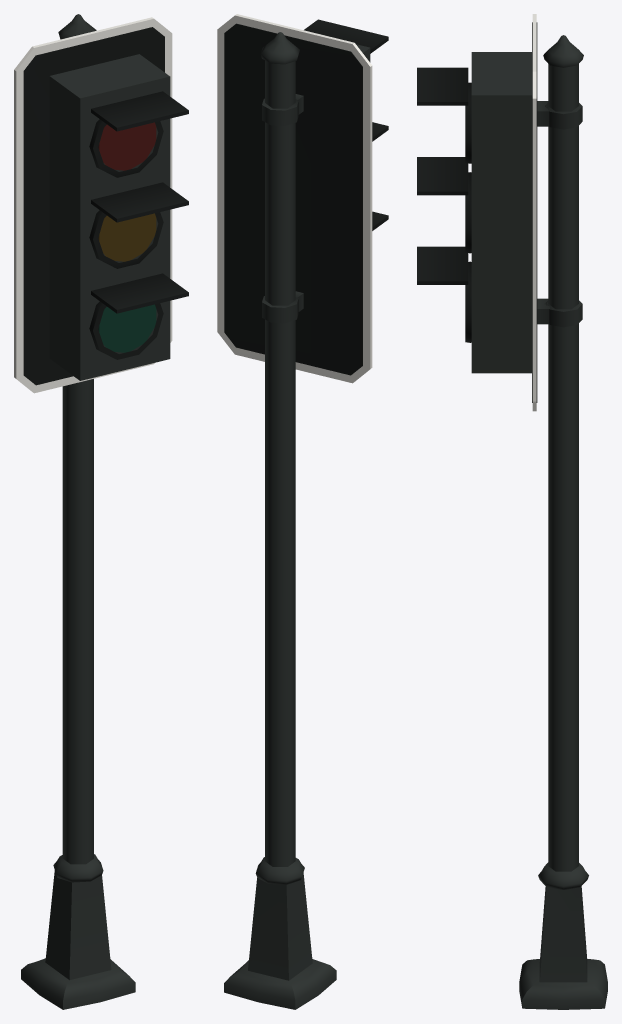
File: trafficLight.far.glb
The picture shows the model from 3 angles, left to right: view 1: azimuth 30°, elevation 25°; view 2: azimuth 150°, elevation 25°; view 3: azimuth 270°, elevation 25°; orthographic projection.
Parts seen in each view (by area): view 1: trafficLight; view 2: trafficLight; view 3: trafficLight.
Part boxes in pixels (x1,y1,x2,y2): trafficLight: (14, 14, 188, 1009); trafficLight: (217, 14, 388, 1009); trafficLight: (417, 14, 607, 1009).
Size of the model in its own units: 0.52 by 3.1 by 0.56.
